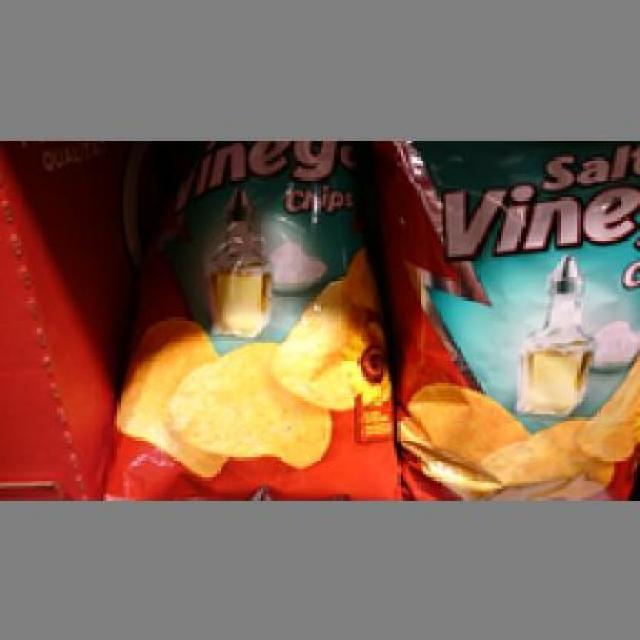Chips: (108, 140, 394, 494), (386, 137, 637, 494)
